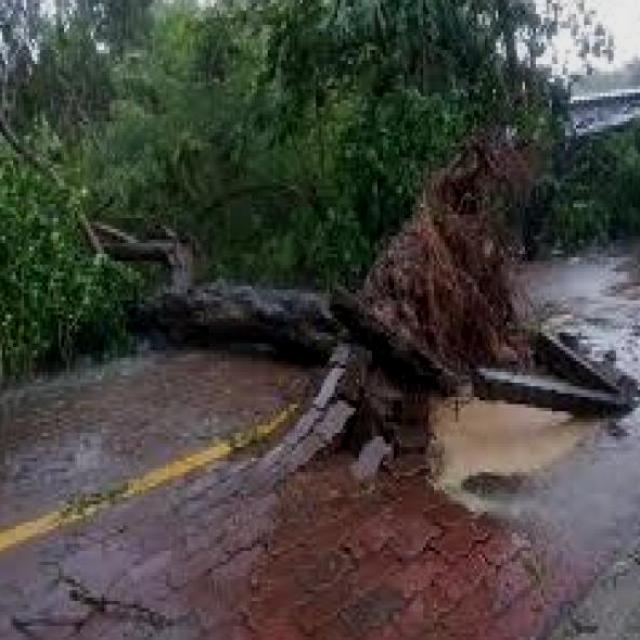fallen_object: (0, 87, 549, 437)
